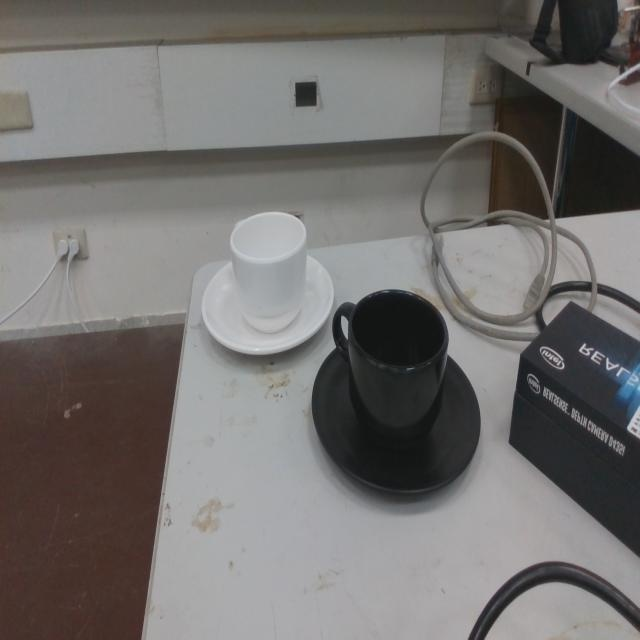black: (311, 286, 484, 504)
white: (200, 209, 336, 360)
